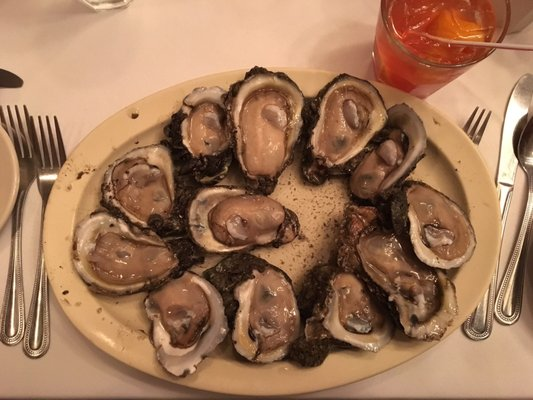pizza: (373, 0, 513, 97)
sandwich: (492, 78, 531, 327)
